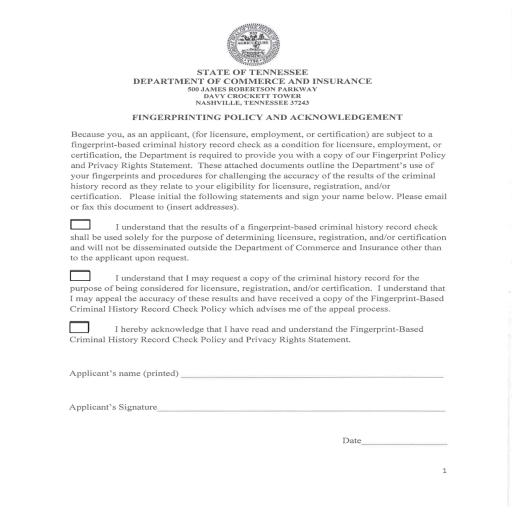Signature: (68, 396, 158, 416)
check_box: (67, 215, 95, 232), (67, 318, 93, 335), (68, 266, 93, 283)
date: (339, 432, 453, 450)
free_text: (66, 364, 180, 382)
